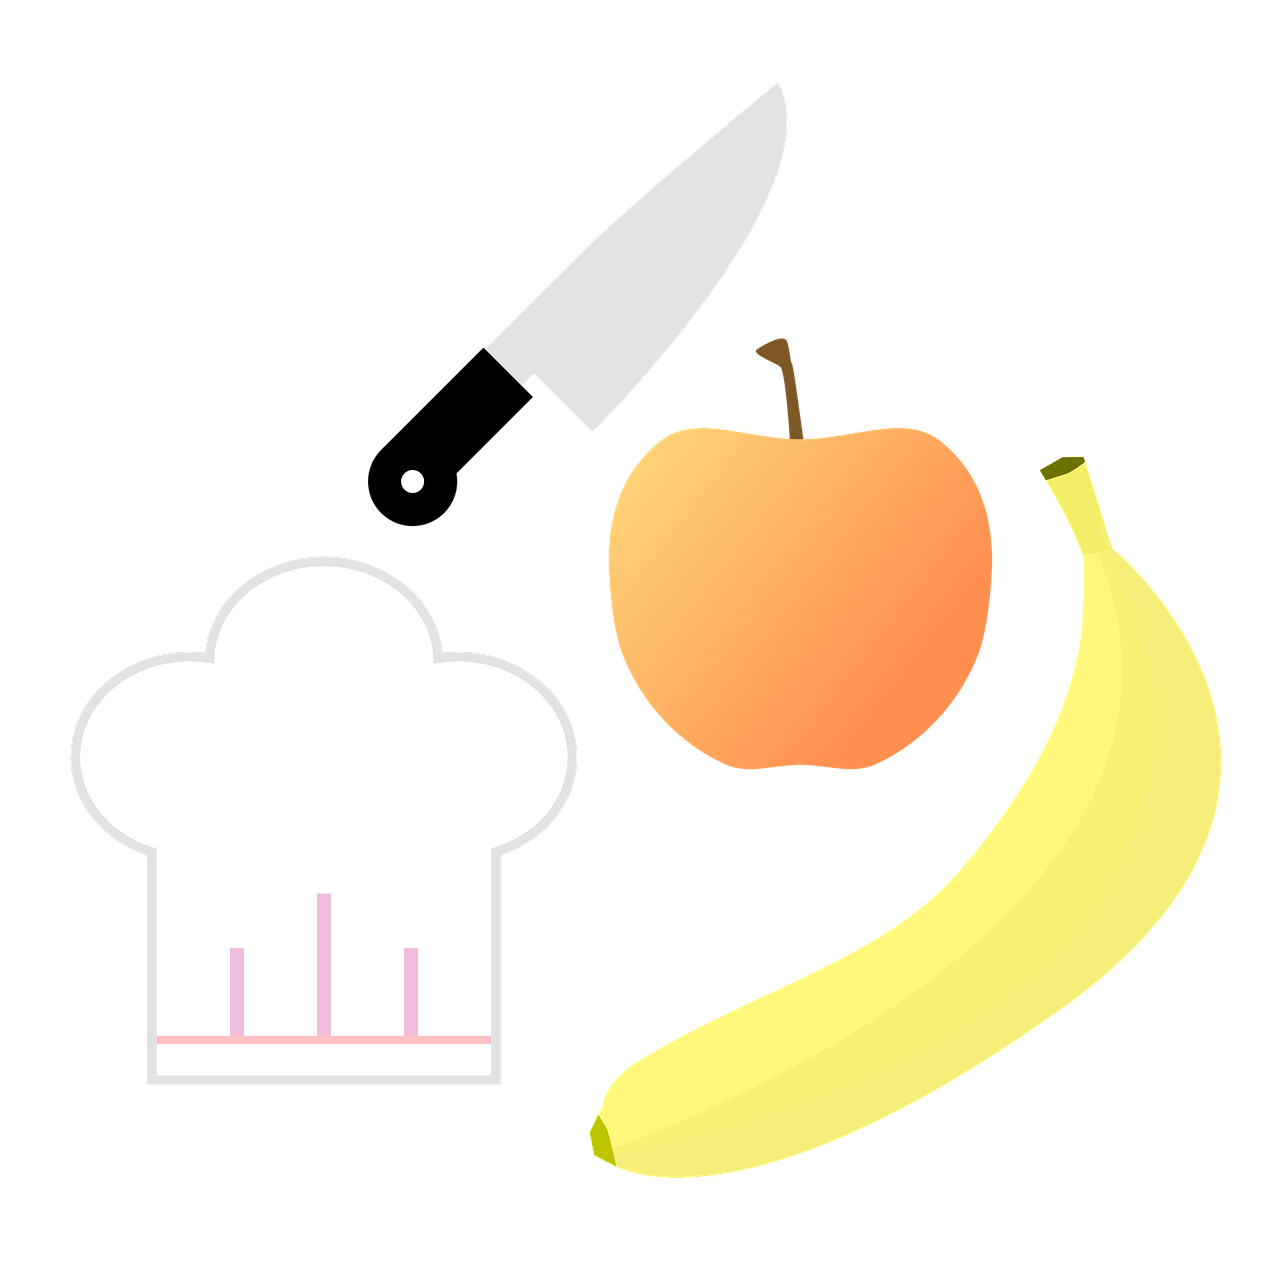knife: (358, 67, 806, 549)
